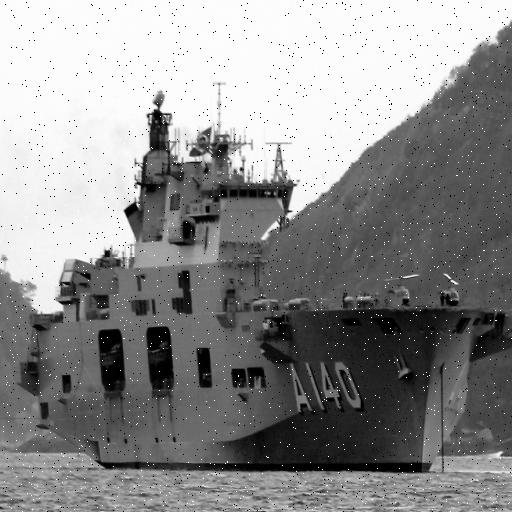Portanaves: (21, 71, 512, 477)
